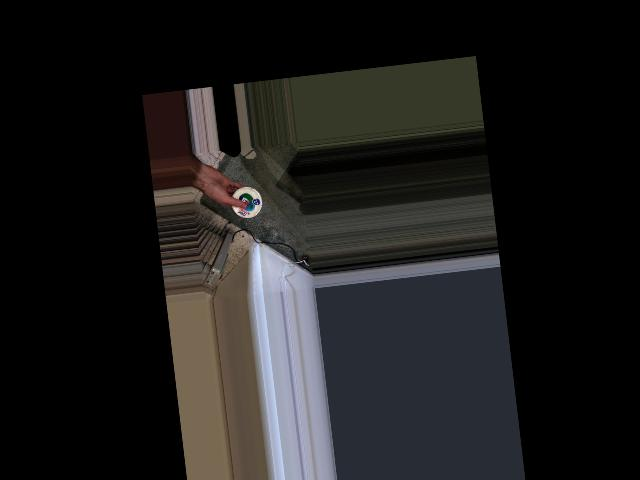cotage: (229, 186, 261, 218)
